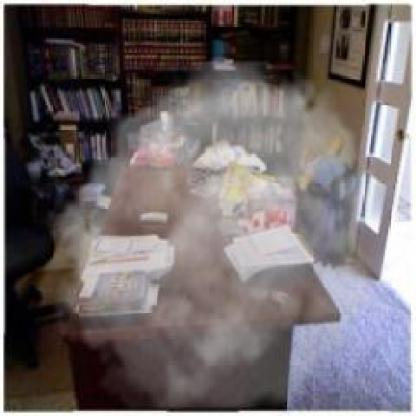Smoke: (41, 61, 398, 409)
